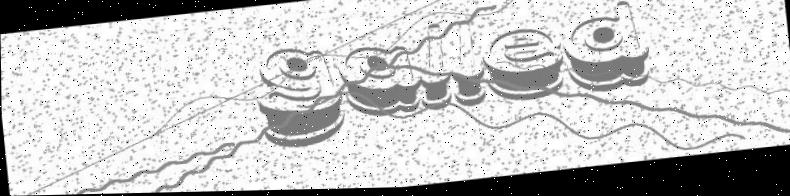a: (340, 44, 423, 121)
e: (560, 2, 653, 98), (481, 28, 569, 106)
g: (253, 45, 347, 152)
l: (447, 23, 487, 109), (416, 26, 455, 114)
